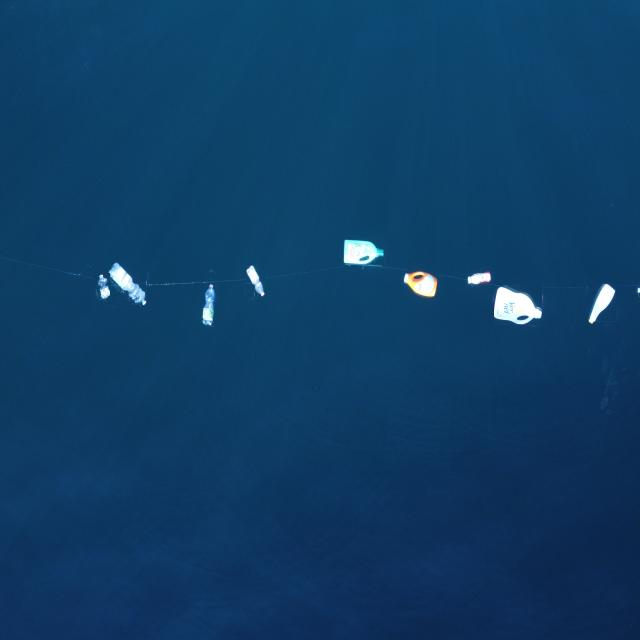bottles: (494, 286, 542, 325), (108, 261, 147, 306), (588, 283, 616, 324), (343, 239, 384, 265), (404, 270, 438, 297), (246, 265, 265, 298), (202, 283, 216, 326), (468, 270, 492, 285), (97, 273, 110, 300)
